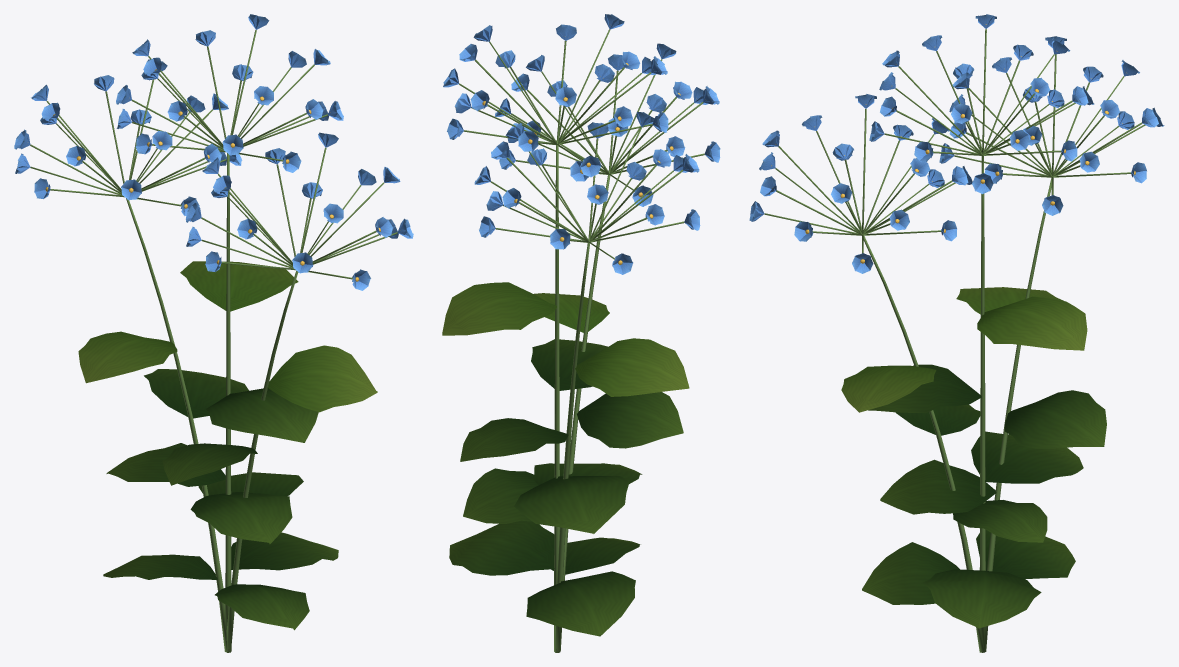
The model's file is hydrangea-09-lod.glb.
The picture shows the model from 3 angles, left to right: view 1: azimuth 30°, elevation 25°; view 2: azimuth 150°, elevation 25°; view 3: azimuth 270°, elevation 25°; orthographic projection. The views are drawn at different scales.
Parts seen in each view (by area): view 1: hydrangea_stage_09_leaf_veins.017, hydrangea_stage_09_stem_fibres.017, hydrangea_stage_09_hydrangea_petal.017, hydrangea_stage_09_young_leaf.017; view 2: hydrangea_stage_09_leaf_veins.017, hydrangea_stage_09_hydrangea_petal.017, hydrangea_stage_09_stem_fibres.017, hydrangea_stage_09_young_leaf.017; view 3: hydrangea_stage_09_leaf_veins.017, hydrangea_stage_09_stem_fibres.017, hydrangea_stage_09_hydrangea_petal.017, hydrangea_stage_09_young_leaf.017.
Boxes of the visible parts, x1,y1,x2,y2 form: hydrangea_stage_09_leaf_veins.017: [103, 369, 338, 630]; hydrangea_stage_09_stem_fibres.017: [30, 30, 397, 652]; hydrangea_stage_09_hydrangea_petal.017: [14, 14, 413, 290]; hydrangea_stage_09_young_leaf.017: [78, 261, 377, 412]; hydrangea_stage_09_leaf_veins.017: [449, 339, 683, 636]; hydrangea_stage_09_hydrangea_petal.017: [443, 14, 720, 274]; hydrangea_stage_09_stem_fibres.017: [459, 29, 704, 652]; hydrangea_stage_09_young_leaf.017: [442, 282, 689, 396]; hydrangea_stage_09_leaf_veins.017: [862, 364, 1106, 628]; hydrangea_stage_09_stem_fibres.017: [764, 29, 1145, 652]; hydrangea_stage_09_hydrangea_petal.017: [749, 14, 1164, 273]; hydrangea_stage_09_young_leaf.017: [841, 287, 1087, 412].
Bounding box in the file's own units: 0.3646 × 0.7753 × 0.4823.
5 materials, 3 textured.
